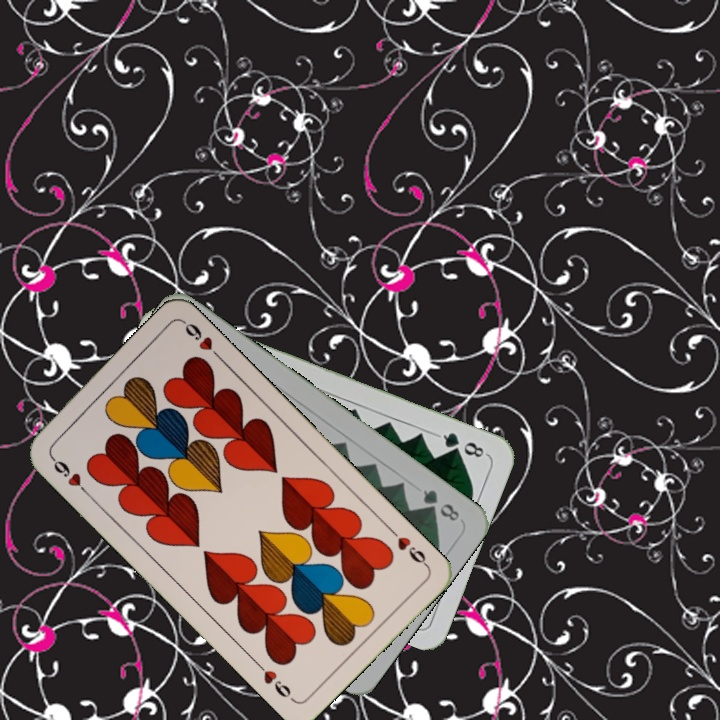G8: (433, 428, 490, 460), (418, 485, 462, 524)
H9: (46, 451, 92, 498), (385, 524, 431, 570)
